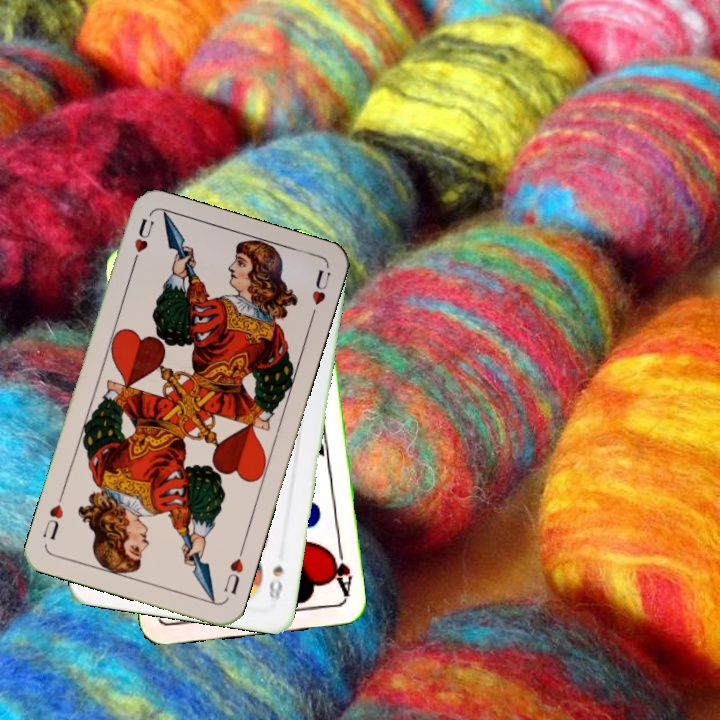HA: (325, 541, 355, 600)
HU: (127, 214, 157, 270), (219, 544, 247, 597)
S8: (264, 561, 286, 604)
